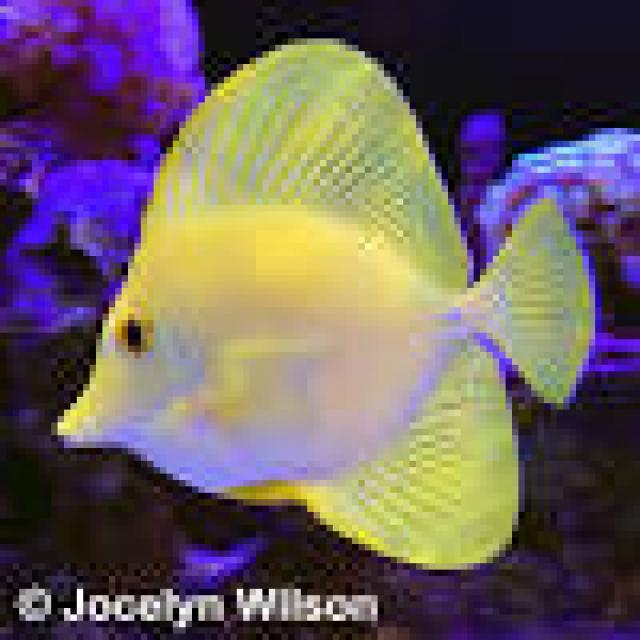YellowTang: (49, 31, 606, 576)
